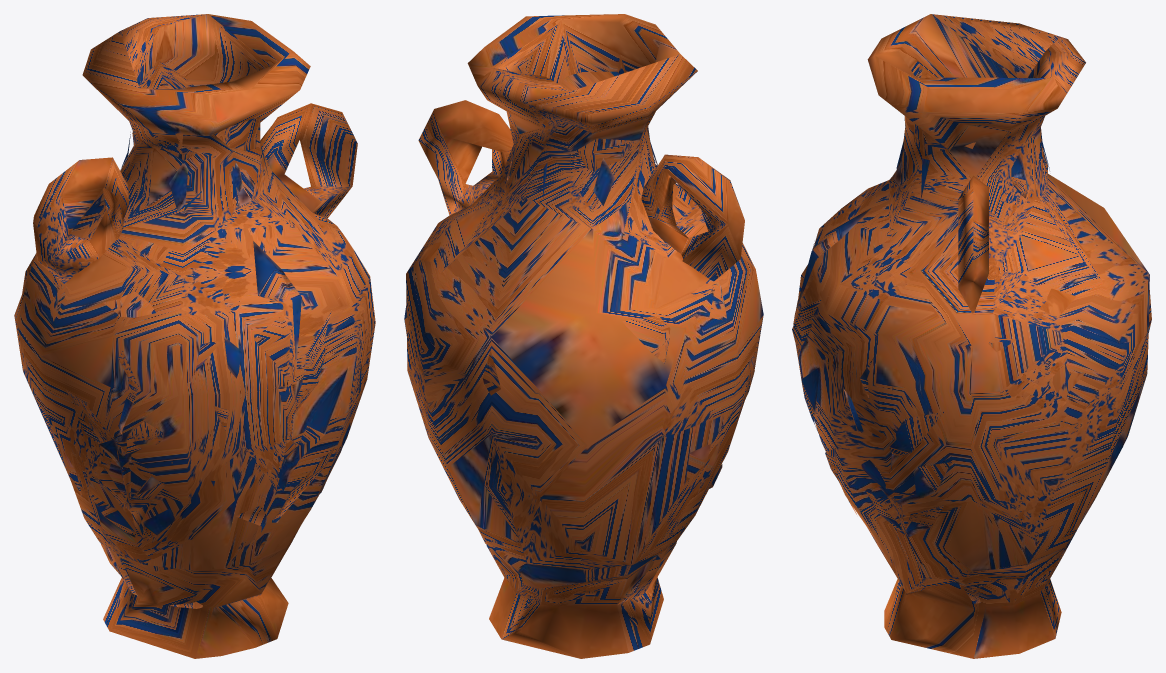
File: vase_terracotta.glb
3 views of the same model, side by side, from view 1: azimuth 30°, elevation 25°; view 2: azimuth 150°, elevation 25°; view 3: azimuth 270°, elevation 25° (orthographic).
Bounding box in the file's own units: 0.5726 × 0.9521 × 0.5466.
1 material, 1 textured.
